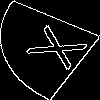X: (25, 25, 100, 76)
